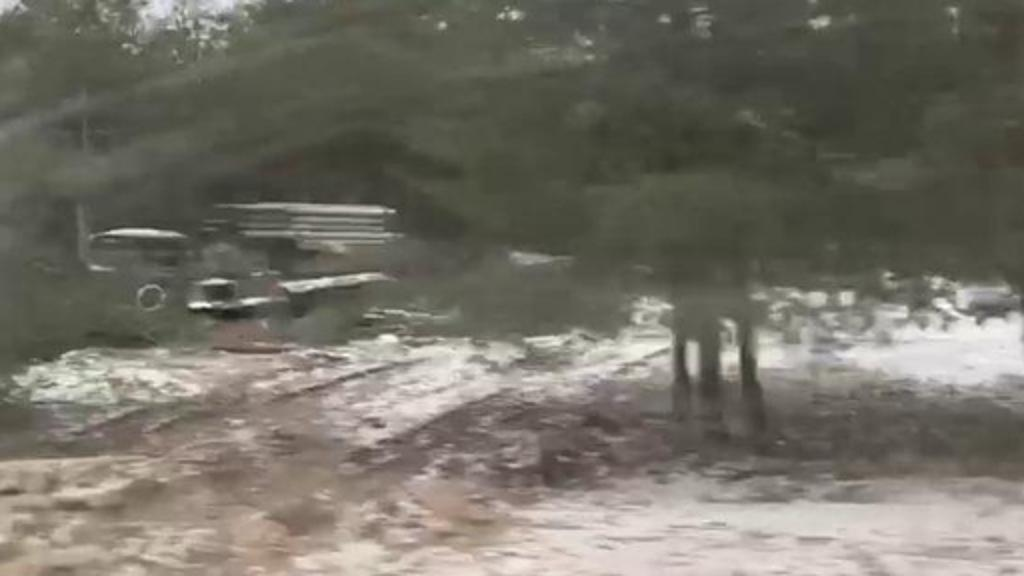MLRS: (80, 182, 408, 344)
